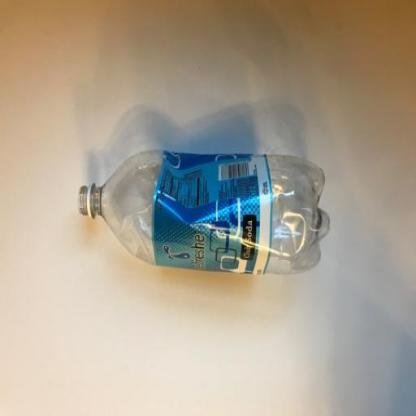trash: (77, 148, 330, 274)
